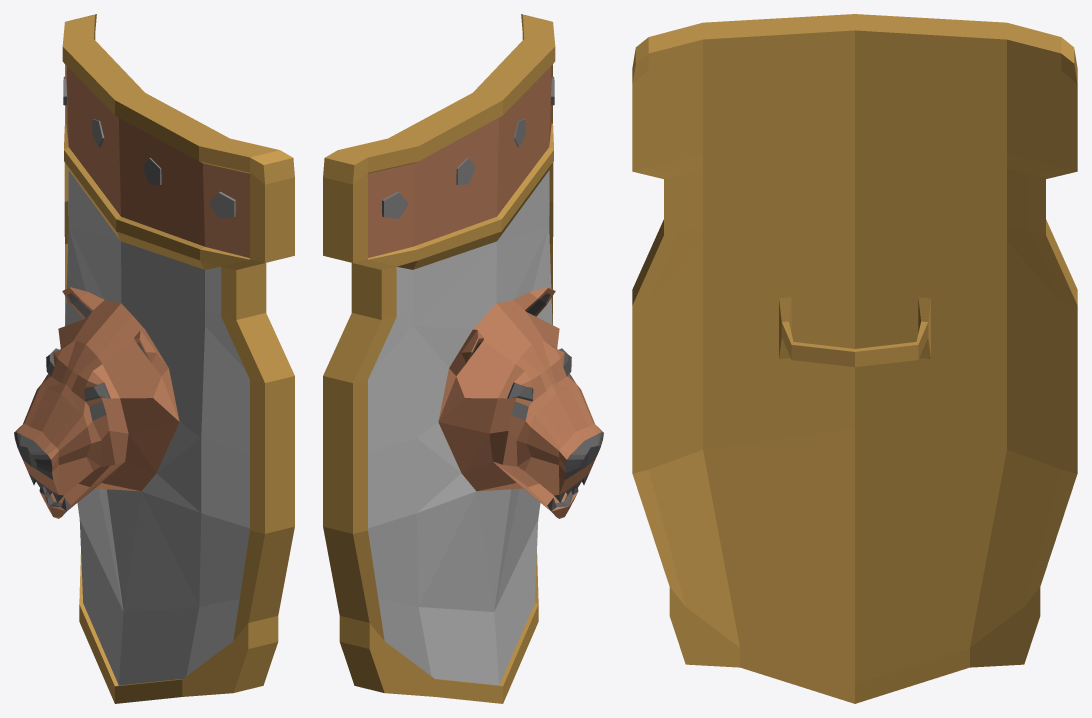
File: ShieldBear.fbx
3 views of the same model, side by side, from view 1: azimuth 30°, elevation 25°; view 2: azimuth 150°, elevation 25°; view 3: azimuth 270°, elevation 25° (orthographic). The views are drawn at different scales.
Parts seen in each view (by area): view 1: ShieldBear; view 2: ShieldBear; view 3: ShieldBear.
Part boxes in pixels (left/top/right/bottom): ShieldBear: left=14, top=14, right=294, bottom=703; ShieldBear: left=323, top=14, right=603, bottom=703; ShieldBear: left=632, top=14, right=1077, bottom=703.
Size of the model in its own units: 52.42 by 164 by 97.95.
1 material, 1 textured.
